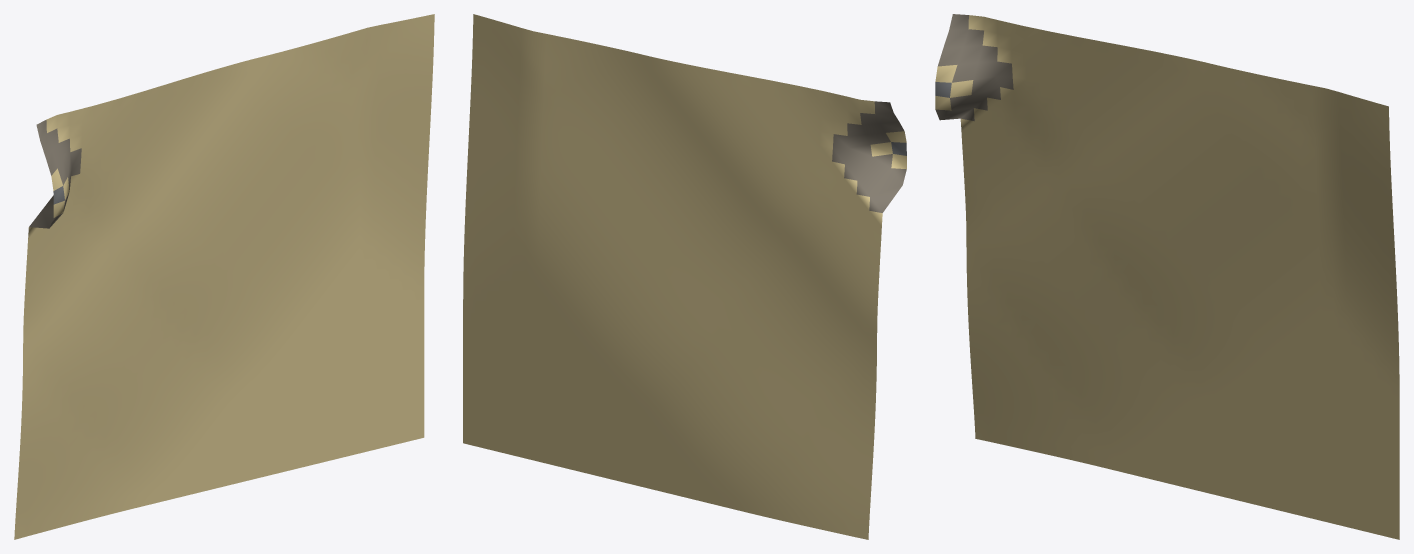
Rendered from island_terrain_25_02.obj.
3 views of the same model, side by side, from view 1: azimuth 30°, elevation 25°; view 2: azimuth 150°, elevation 25°; view 3: azimuth 330°, elevation 25° (orthographic). The views are drawn at different scales.
Visible parts, largest first — view 1: island_terrain_25_02; view 2: island_terrain_25_02; view 3: island_terrain_25_02.
Boxes of the visible parts, x1,y1,x2,y2 form: island_terrain_25_02: [14, 14, 434, 539]; island_terrain_25_02: [463, 14, 906, 539]; island_terrain_25_02: [935, 14, 1399, 539].
Size of the model in its own units: 256 by 256 by 44.7.
